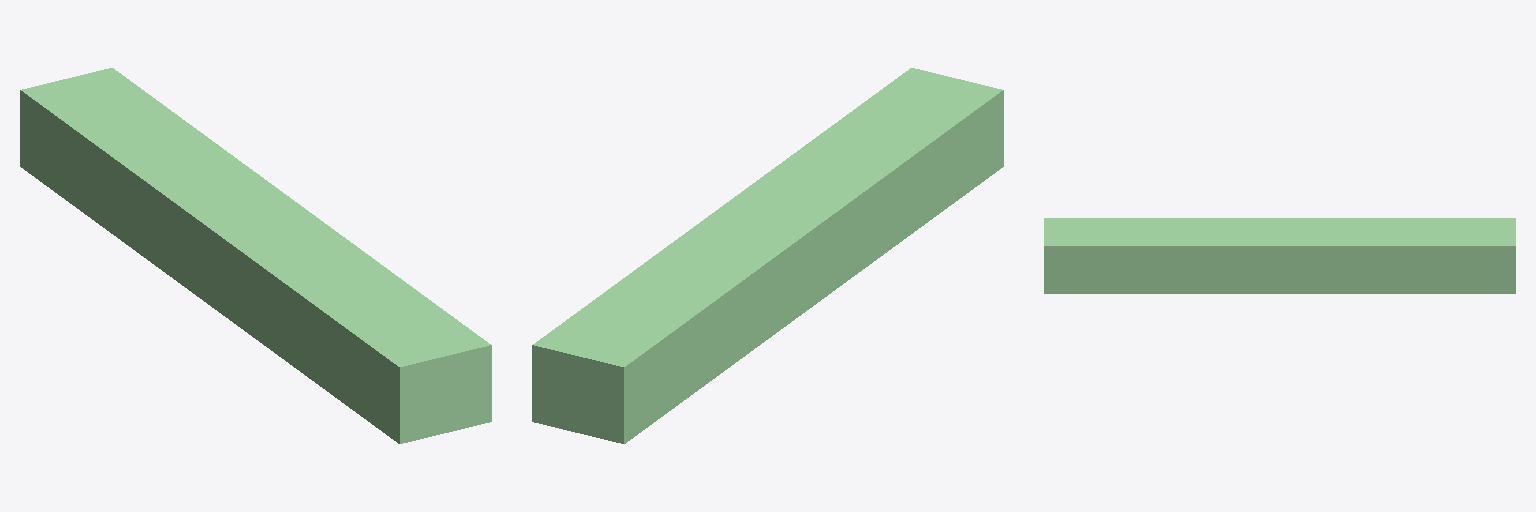
The robot description file, URDF, robot "conveyor":
<?xml version="1.0"?>

<robot name="conveyor">

  <link name="conveyor_block">
    <visual>
      <origin xyz="0.6 0.6 0.14" />
      <geometry>
        <box size="0.35 2.5 0.28" />
      </geometry>
      <material name='light_green'>
        <color rgba="0.7 0.9 0.7 1" />
      </material>
    </visual>

    <!-- <visual>
      <origin xyz="0.6 0.0 0.3" />
      <geometry>
        <box size="0.2 0.4 0.05" />
      </geometry>
      <material name="kawasaki_white">
        <color rgba="0.8392 0.8666 0.847 1"/>
      </material>
    </visual>

    <visual>
      <origin xyz="0.6 0.1 0.3" />
      <geometry>
        <cylinder radius="0.02" length="0.15" />
      </geometry>
      <material name="kawasaki_white">
        <color rgba="0.8392 0.8666 0.847 1"/>
      </material>
    </visual>

    <visual>
      <origin xyz="0.605 0.105 0.32" />
      <geometry>
        <mesh filename="./component_meshes/gear.stl" scale="0.001"/>
      </geometry>
      <material name="kawasaki_white">
        <color rgba="0.8392 0.8666 0.847 1"/>
      </material>
    </visual>

    <visual>
      <origin xyz="0.6 -0.1 0.3" />
      <geometry>
        <cylinder radius="0.02" length="0.15" />
      </geometry>
      <material name="kawasaki_white">
        <color rgba="0.8392 0.8666 0.847 1"/>
      </material>
    </visual> -->

    <collision>
      <origin xyz="0.6 0.6 0.14" />
      <geometry>
        <box size="0.35 2.5 0.28" />
      </geometry>
    </collision>
  </link>

</robot>

--- What the picture shows (computed from the rendered views, not written in the file) ---
Views: 3 orthographic renders of the robot side by side, from view 1: azimuth 30°, elevation 25°; view 2: azimuth 150°, elevation 25°; view 3: azimuth 270°, elevation 25°.
Robot: conveyor — 1 links, 0 joints (none); root link conveyor_block; default pose: all joints at 0.
Links seen in each view (by area): view 1: conveyor_block; view 2: conveyor_block; view 3: conveyor_block.
Boxes of the visible links, x1,y1,x2,y2 form: conveyor_block: (20,68,491,443); conveyor_block: (532,68,1003,443); conveyor_block: (1044,218,1515,293).
Size in the robot's own frame: 0.35 by 2.5 by 0.28 metres.
Geometry: primitives only (box / cylinder / sphere), no mesh files.